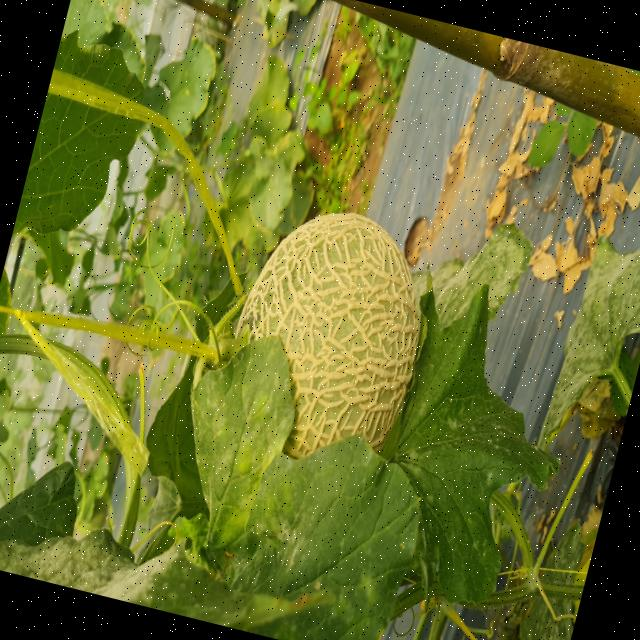melon: (236, 211, 419, 457)
